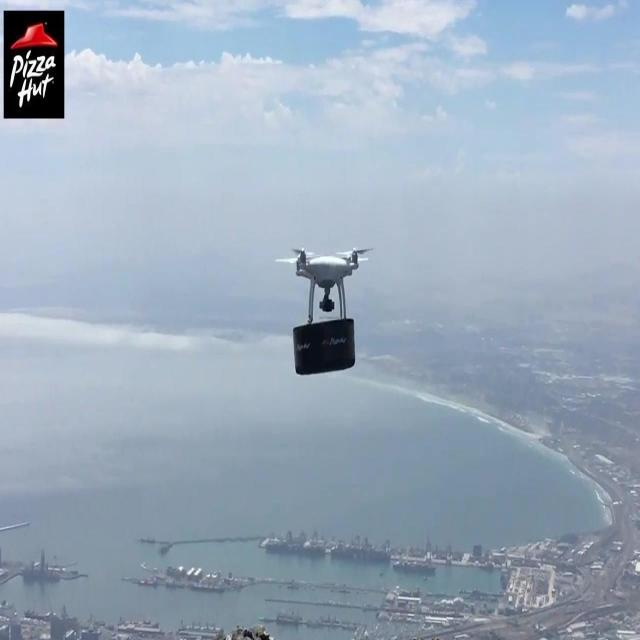UAV: (276, 247, 372, 324)
